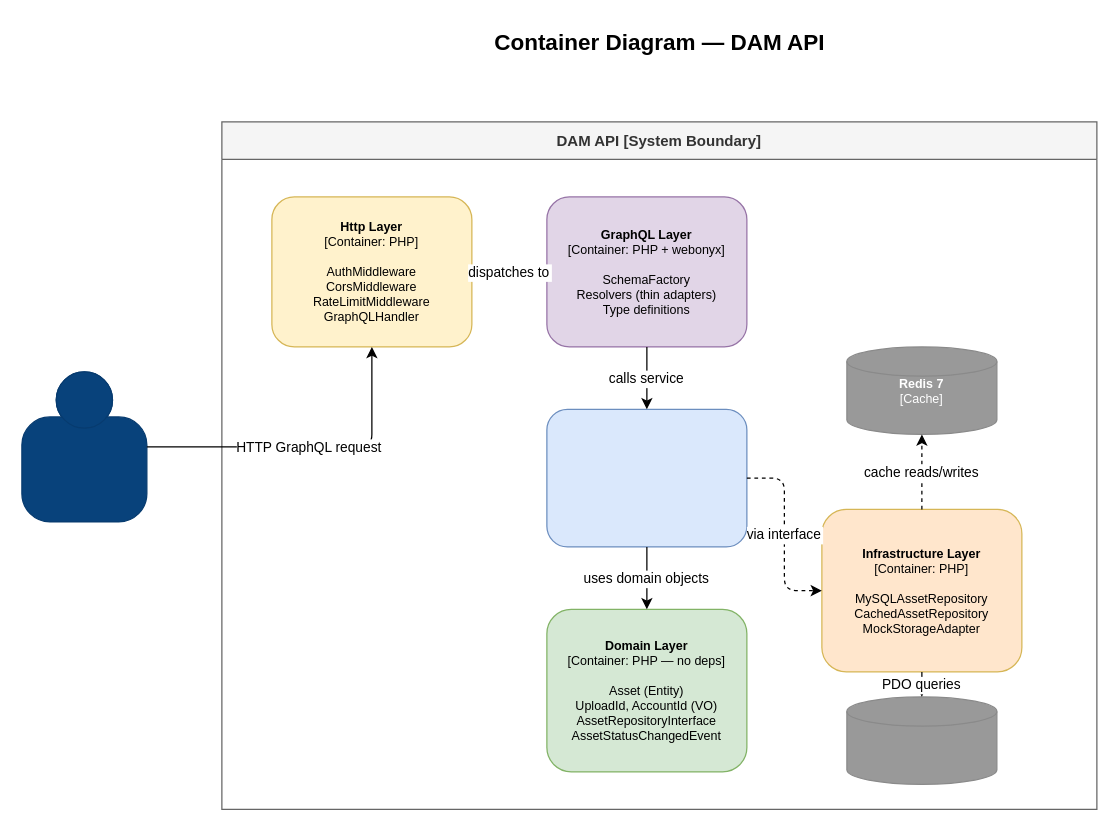
Image size: 1119x831. Some labels were removed from this diagram. The shapes that lost their labels are listed below. From the top down, each one's centre as x and y in pixels, then its label:
(84,446): API Client [Person]
(646,477): Application Layer [Container: PHP] PresignService AssetService Commands / DTOs
(921,740): MySQL 8 [Database]
